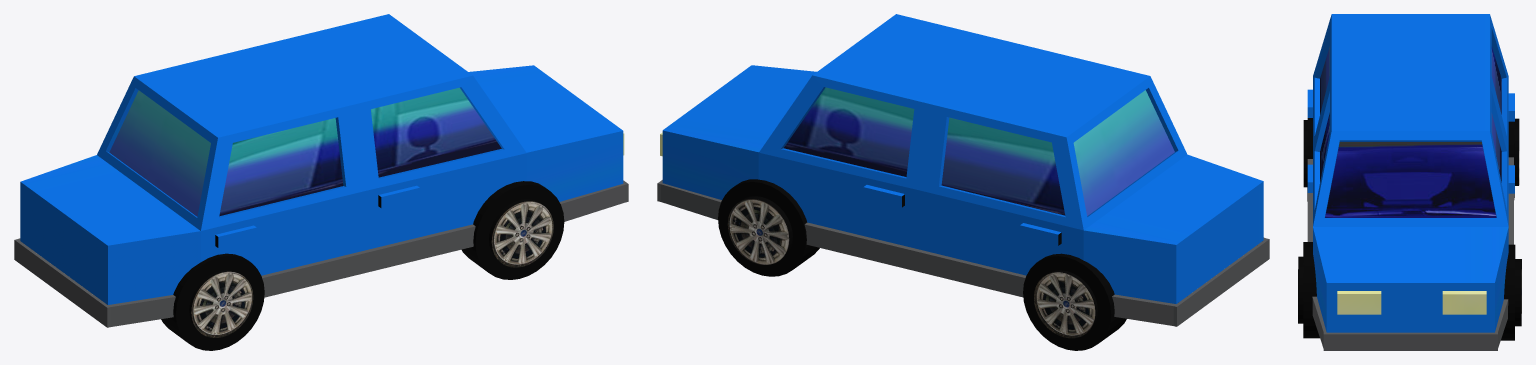
The model's file is CarBLUE.glb.
The picture shows the model from 3 angles, left to right: view 1: azimuth 30°, elevation 25°; view 2: azimuth 150°, elevation 25°; view 3: azimuth 270°, elevation 25°; orthographic projection. The views are drawn at different scales.
Parts seen in each view (by area): view 1: Cube.001; view 2: Cube.001; view 3: Cube.001.
Part boxes in pixels (bbox=[...]): Cube.001: bbox=[14, 14, 628, 350]; Cube.001: bbox=[657, 14, 1269, 350]; Cube.001: bbox=[1298, 14, 1521, 350].
Size of the model in its own units: 5.53 by 2.02 by 2.17.
1 material, 1 textured.
